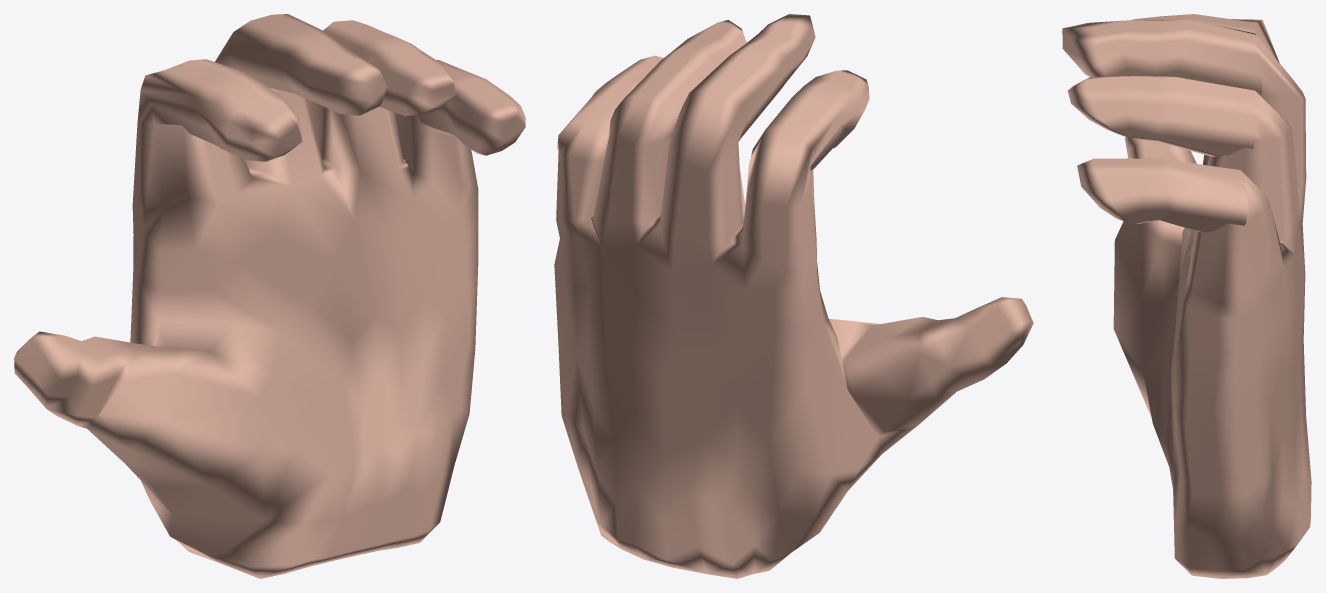
Rendered from CURVADOS_COM_POLEGAR.obj.
3 views of the same model, side by side, from view 1: azimuth 30°, elevation 25°; view 2: azimuth 150°, elevation 25°; view 3: azimuth 270°, elevation 25° (orthographic). The views are drawn at different scales.
Parts seen in each view (by area): view 1: mao_dir polySurface1; view 2: mao_dir polySurface1; view 3: mao_dir polySurface1.
Boxes of the visible parts, x1,y1,x2,y2 form: mao_dir polySurface1: [14, 14, 525, 578]; mao_dir polySurface1: [554, 14, 1033, 578]; mao_dir polySurface1: [1062, 14, 1311, 578].
Size of the model in its own units: 182 by 191 by 86.8.
